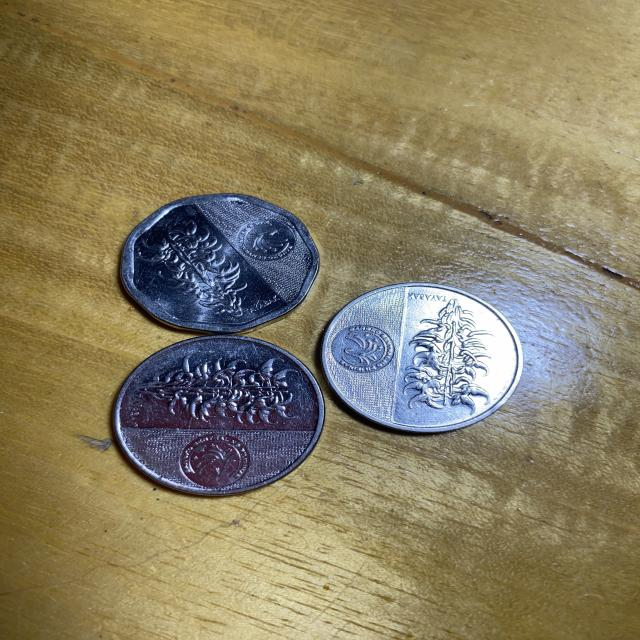5_New_Back: (143, 362, 303, 426), (403, 301, 491, 411), (143, 225, 250, 312)
